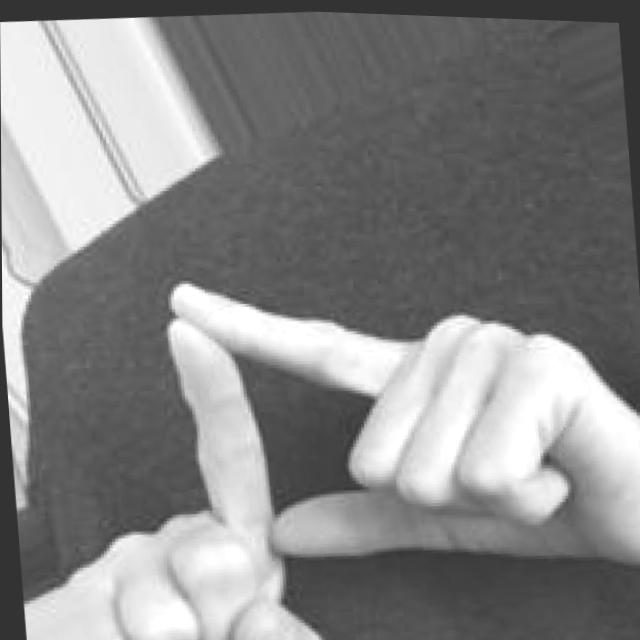D: (29, 239, 640, 640)
